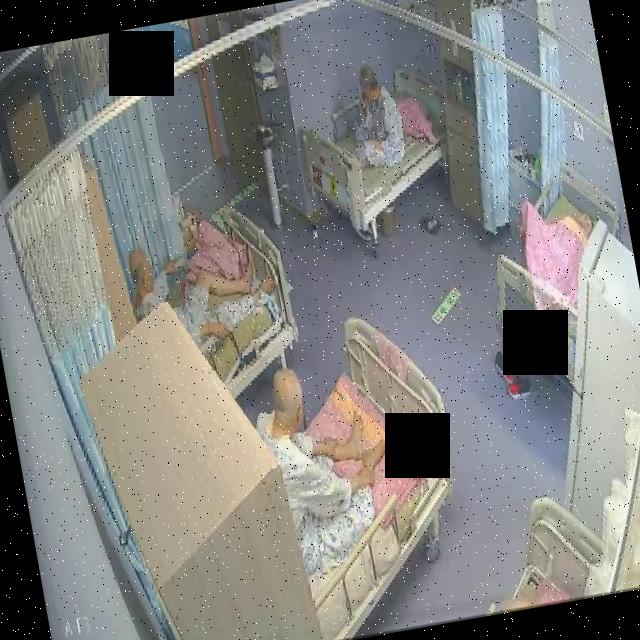bed: (255, 306, 481, 640), (471, 153, 640, 397), (151, 202, 307, 412), (290, 61, 457, 238)
lie: (122, 234, 282, 360)
patient: (242, 342, 409, 578), (120, 232, 282, 362), (338, 60, 411, 180)
sit: (243, 340, 407, 574), (340, 61, 410, 179)
